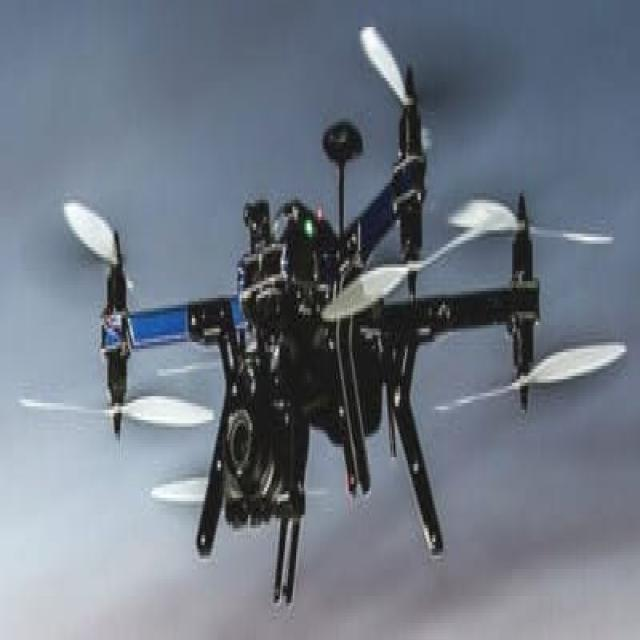drone: (73, 38, 589, 598)
